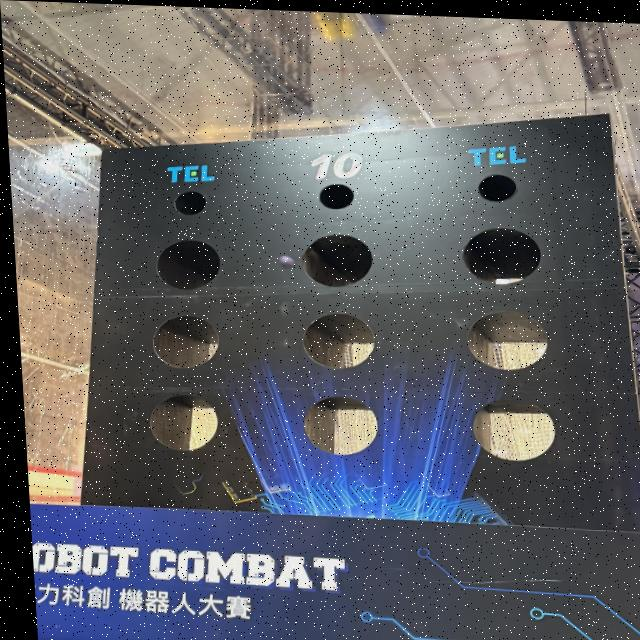hole: (471, 399, 557, 462), (465, 310, 549, 371), (462, 226, 543, 286), (302, 395, 379, 456), (302, 312, 376, 370), (301, 233, 376, 289), (150, 394, 222, 452), (151, 314, 221, 370), (156, 238, 222, 291), (477, 174, 517, 202), (318, 183, 355, 210), (175, 190, 207, 216)
